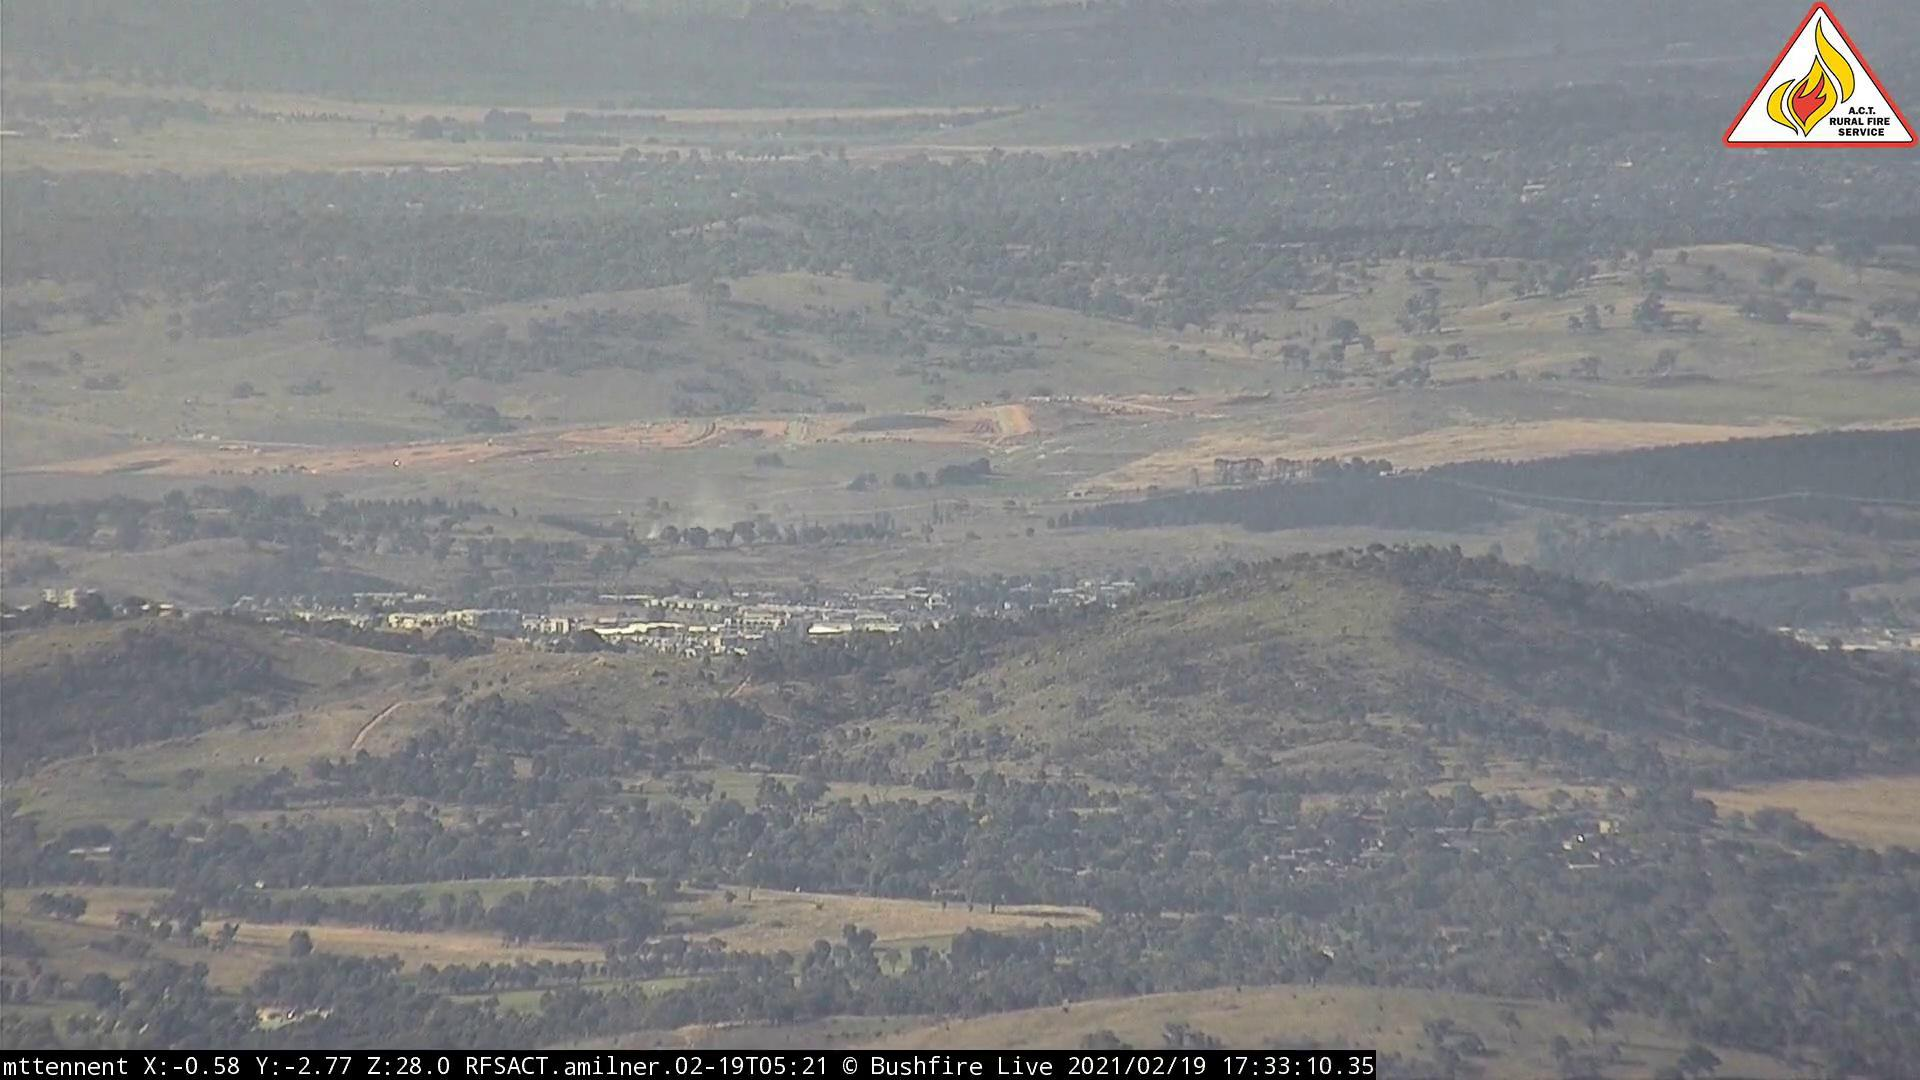Smoke: (638, 518, 688, 541)
